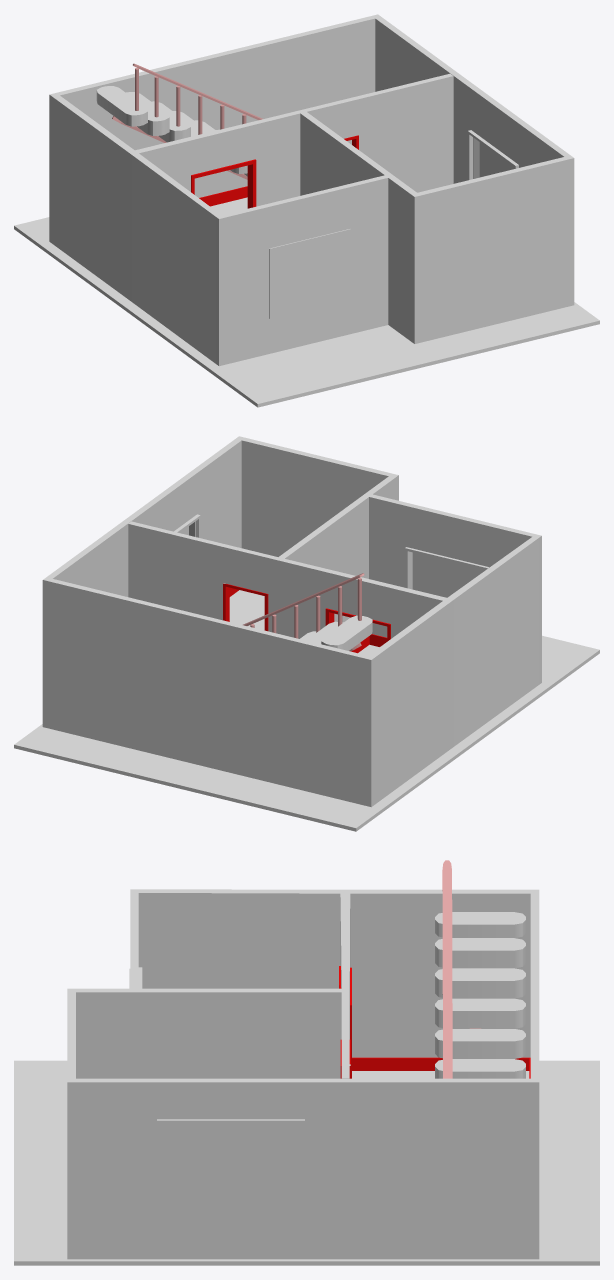
The model's file is PlantaBaja.fbx.
3 renders of one model, top to bottom at view 1: azimuth 30°, elevation 25°; view 2: azimuth 150°, elevation 25°; view 3: azimuth 270°, elevation 25°, orthographic. The views are drawn at different scales.
Visible parts, largest first — view 1: PisoAbajo1; view 2: PisoAbajo1; view 3: PisoAbajo1.
Part boxes in pixels (x1,y1,x2,y2): PisoAbajo1: [14, 14, 599, 407]; PisoAbajo1: [14, 436, 599, 831]; PisoAbajo1: [14, 860, 599, 1265].
Size of the model in its own units: 6.82 by 3.76 by 8.41.
